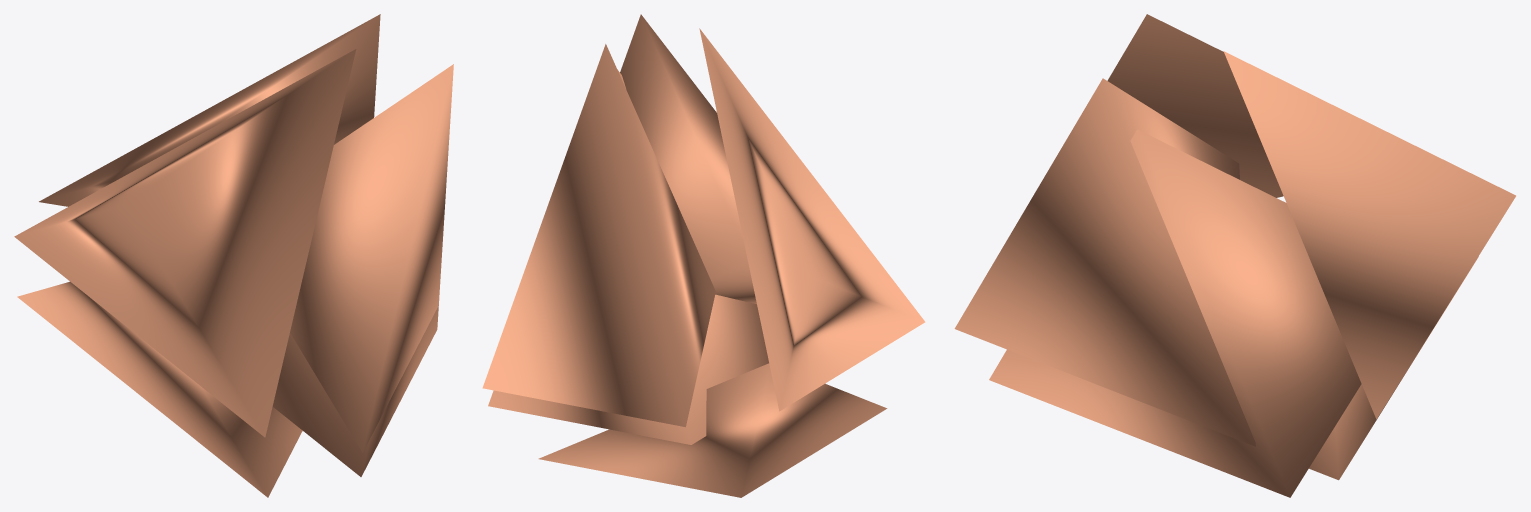
Rendered from 4-simplex.glb.
3 views of the same model, side by side, from view 1: azimuth 30°, elevation 25°; view 2: azimuth 150°, elevation 25°; view 3: azimuth 270°, elevation 25° (orthographic). The views are drawn at different scales.
Parts seen in each view (by area): view 1: Projected 4-simplex; view 2: Projected 4-simplex; view 3: Projected 4-simplex.
Part boxes in pixels (box(x1,y1,x2,y2)): Projected 4-simplex: box(14, 14, 453, 497); Projected 4-simplex: box(482, 14, 925, 497); Projected 4-simplex: box(954, 14, 1515, 497).
Bounding box in the file's own units: 1.96 × 2.01 × 2.41.
